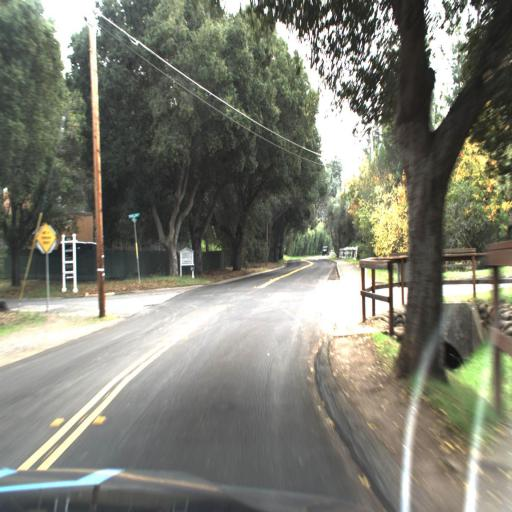car: (318, 239, 334, 261), (320, 242, 330, 258)
